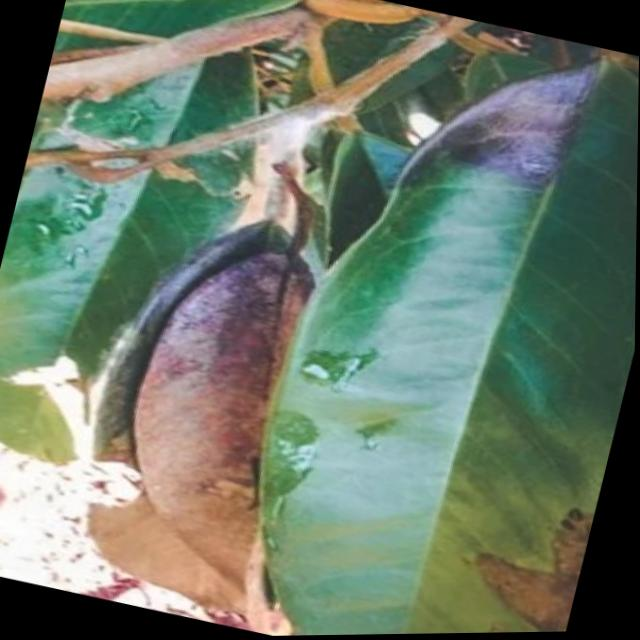Leaf Blight: (61, 164, 344, 464), (344, 3, 640, 277), (357, 395, 613, 636)
